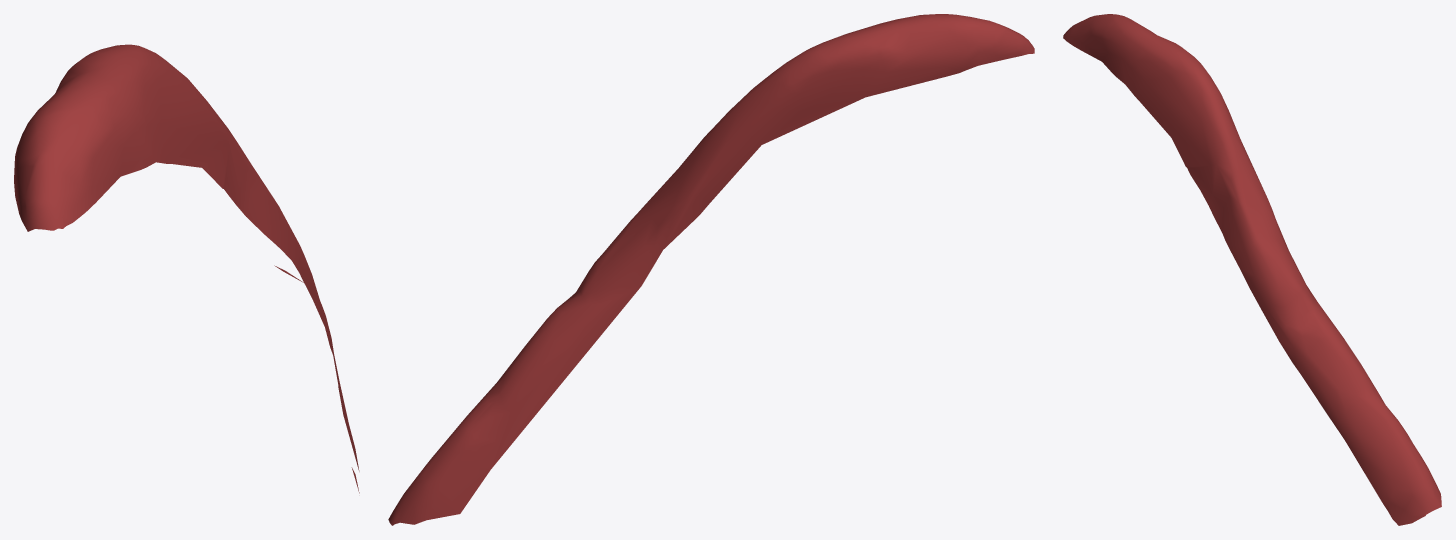
The model's file is levator-scapulae-er.glb.
3 renders of one model, left to right at view 1: azimuth 30°, elevation 25°; view 2: azimuth 150°, elevation 25°; view 3: azimuth 270°, elevation 25°, orthographic. The views are drawn at different scales.
Visible parts, largest first — view 1: Levator scapulae.er; view 2: Levator scapulae.er; view 3: Levator scapulae.er.
Boxes of the visible parts, <box> form: Levator scapulae.er: <box>14,44,359,493</box>; Levator scapulae.er: <box>388,14,1034,525</box>; Levator scapulae.er: <box>1063,14,1441,525</box>.
Bounding box in the file's own units: 0.0217 × 0.0228 × 0.0213.
